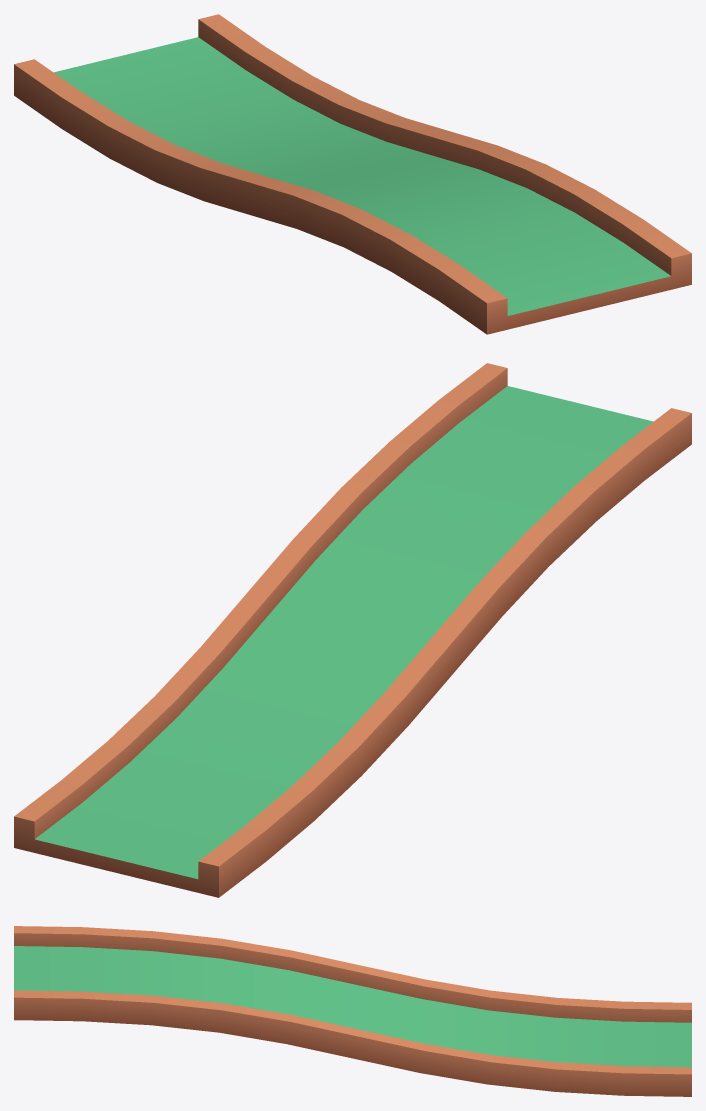
File: spline-default-straight-hill-complete-half.glb
3 renders of one model, top to bottom at view 1: azimuth 30°, elevation 25°; view 2: azimuth 150°, elevation 25°; view 3: azimuth 270°, elevation 25°, orthographic. The views are drawn at different scales.
Parts seen in each view (by area): view 1: spline-default-straight-hill-complete-half; view 2: spline-default-straight-hill-complete-half; view 3: spline-default-straight-hill-complete-half.
Boxes of the visible parts, left/top/right/bottom form: spline-default-straight-hill-complete-half: left=14, top=14, right=691, bottom=334; spline-default-straight-hill-complete-half: left=14, top=363, right=691, bottom=897; spline-default-straight-hill-complete-half: left=14, top=926, right=691, bottom=1096.
Size of the model in its own units: 1 by 0.6465 by 4.
Materials: 1 (1 with a texture image).
